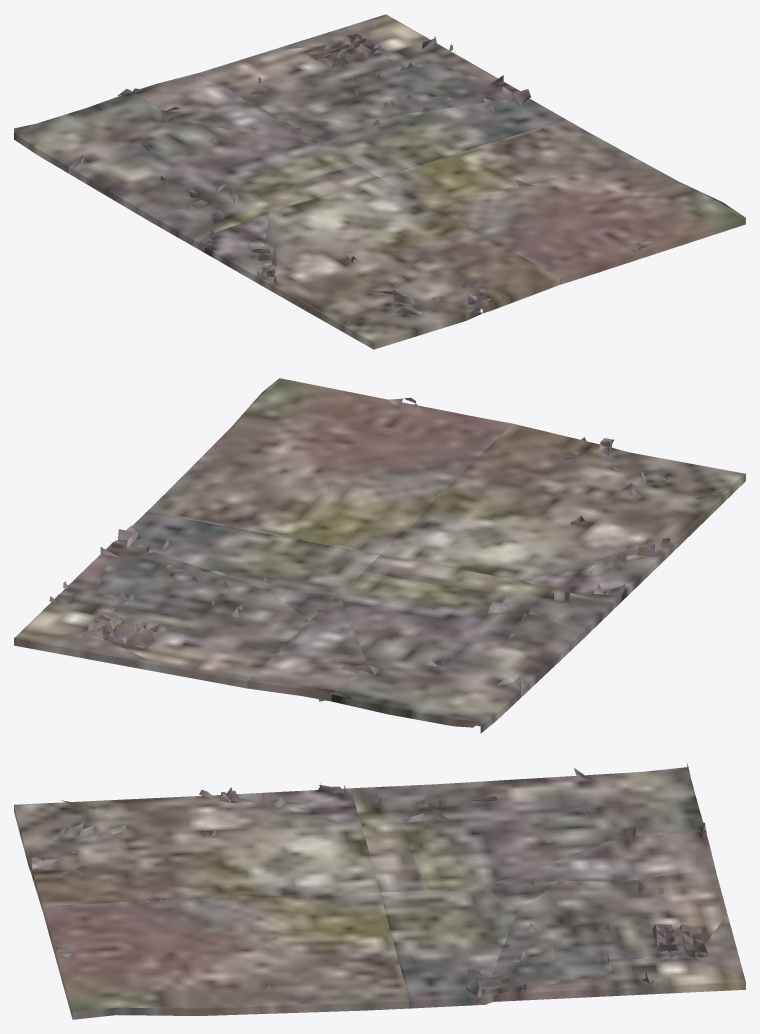
The picture shows the model from 3 angles, top to bottom: view 1: azimuth 30°, elevation 25°; view 2: azimuth 150°, elevation 25°; view 3: azimuth 270°, elevation 25°; orthographic projection. The views are drawn at different scales.
Visible parts, largest first — view 1: Mesh_0; view 2: Mesh_0; view 3: Mesh_0.
Boxes of the visible parts, box(x1,y1,x2,y2) form: Mesh_0: box(14, 14, 745, 349); Mesh_0: box(14, 378, 745, 733); Mesh_0: box(14, 763, 745, 1019).
Size of the model in its own units: 2131 by 100 by 2636.
1 material, 1 textured.
